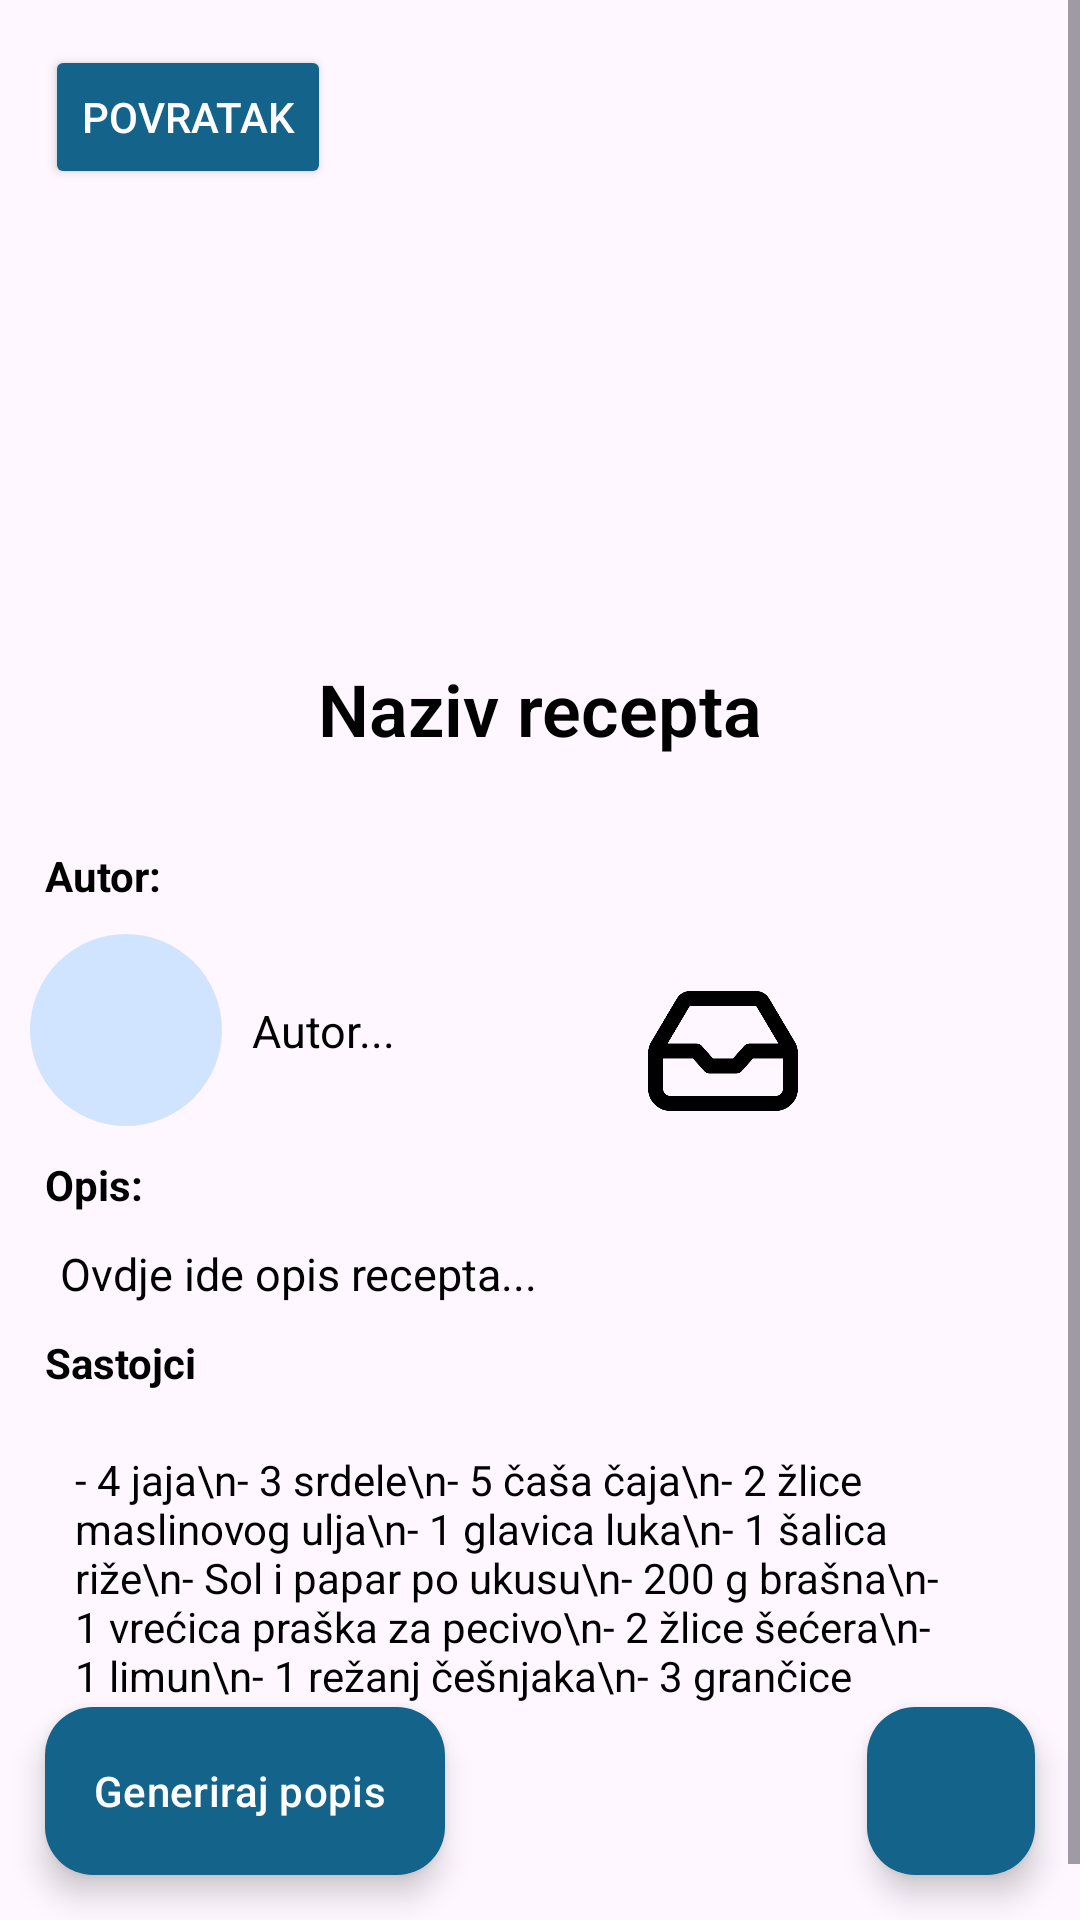

Locate icon controls on the screen. Image size 1080x1920, boxes as [x1=x1, y1=y1, x2=x2, y2=y2].
box: [x1=648, y1=991, x2=798, y2=1111]
